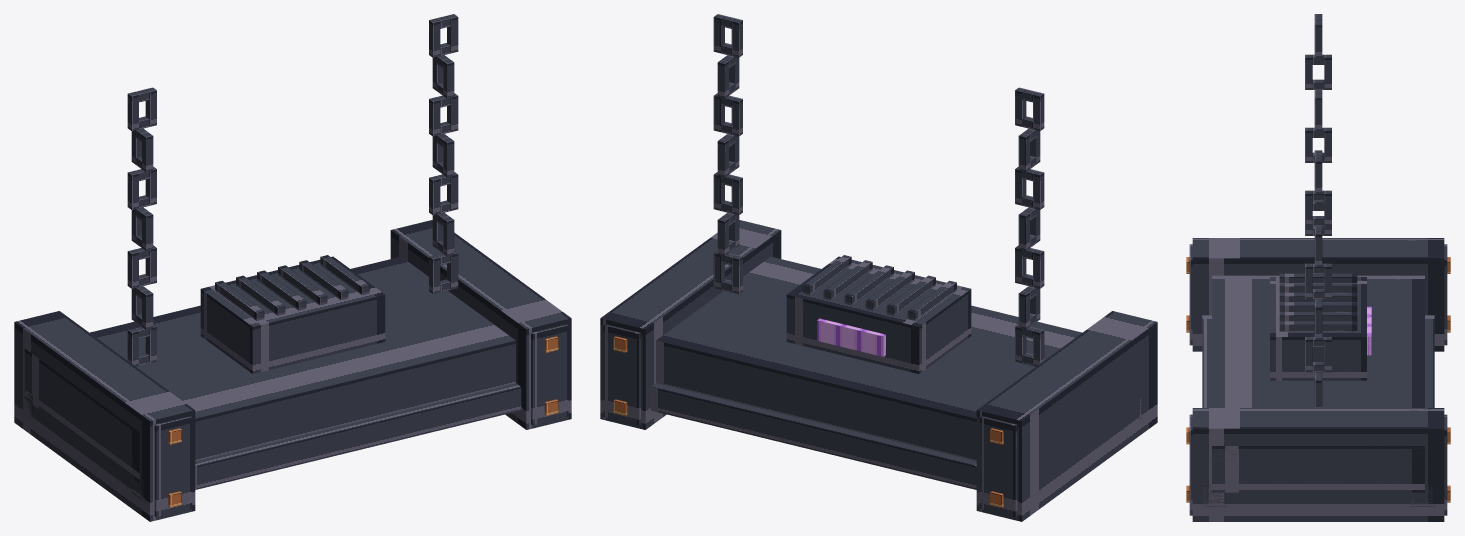
The model's file is bulb_lamp_lit.obj.
3 renders of one model, left to right at view 1: azimuth 30°, elevation 25°; view 2: azimuth 150°, elevation 25°; view 3: azimuth 270°, elevation 25°, orthographic. The views are drawn at different scales.
Visible parts, largest first — view 1: model; view 2: model; view 3: model.
Boxes of the visible parts, x1,y1,x2,y2 form: model: [14, 14, 571, 521]; model: [600, 14, 1157, 521]; model: [1186, 14, 1450, 521].
Bounding box in the file's own units: 0.875 × 0.725 × 0.5125.
